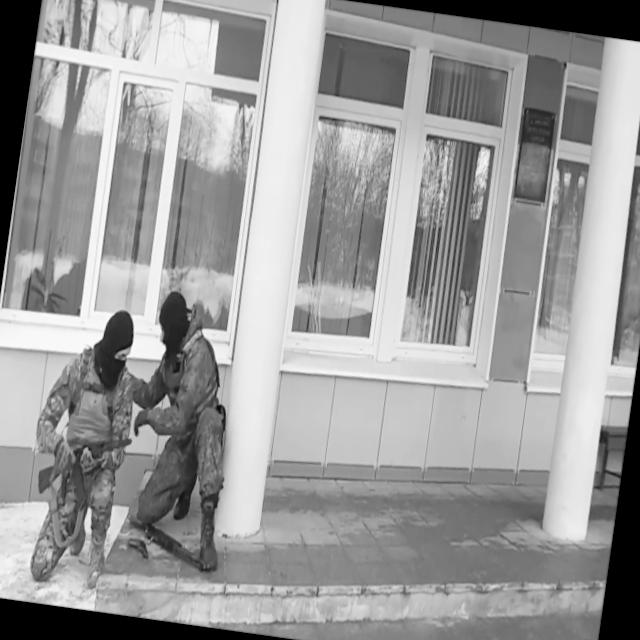gun: (34, 425, 132, 518), (124, 513, 215, 574), (125, 536, 152, 561)
person with a gun: (114, 287, 254, 575), (15, 300, 150, 593)
